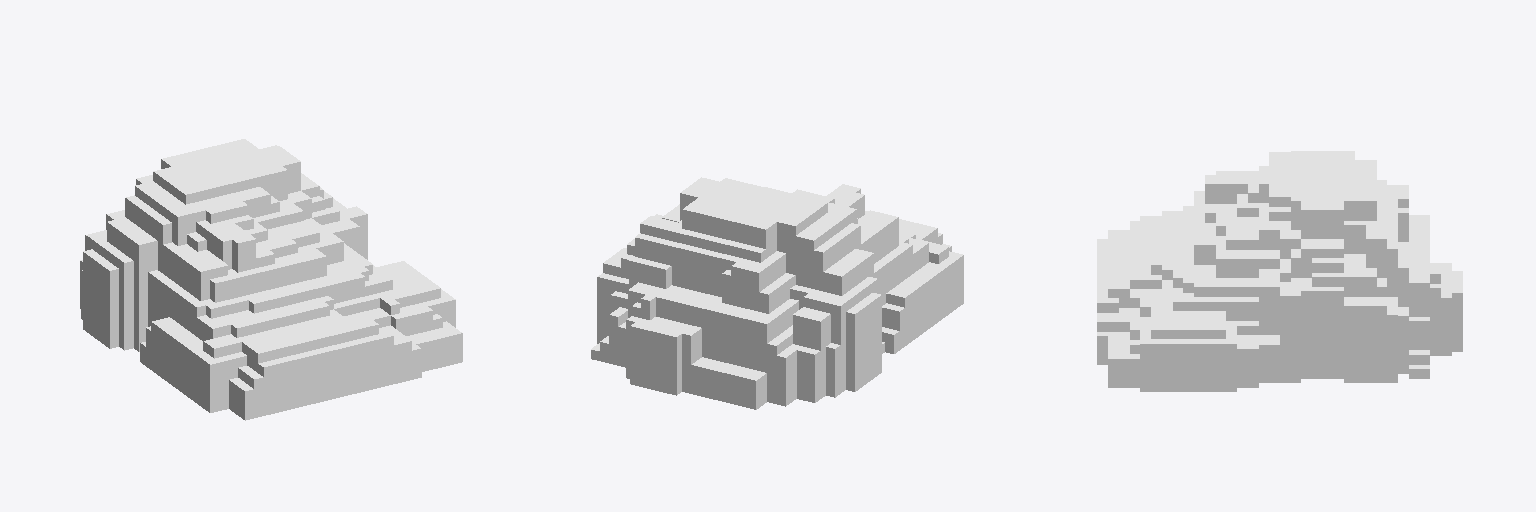
File: Cailloux_grand_neige.obj
3 renders of one model, left to right at view 1: azimuth 30°, elevation 25°; view 2: azimuth 150°, elevation 25°; view 3: azimuth 270°, elevation 25°, orthographic.
Bounding box in the file's own units: 28 × 15 × 34.